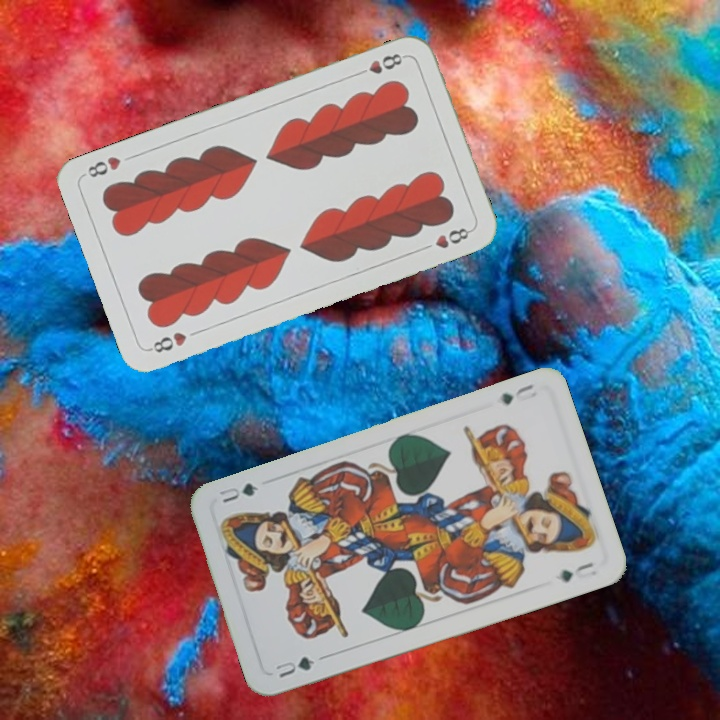GU: (271, 652, 317, 681), (497, 380, 540, 408)
H8: (352, 49, 409, 79), (145, 328, 190, 356)
